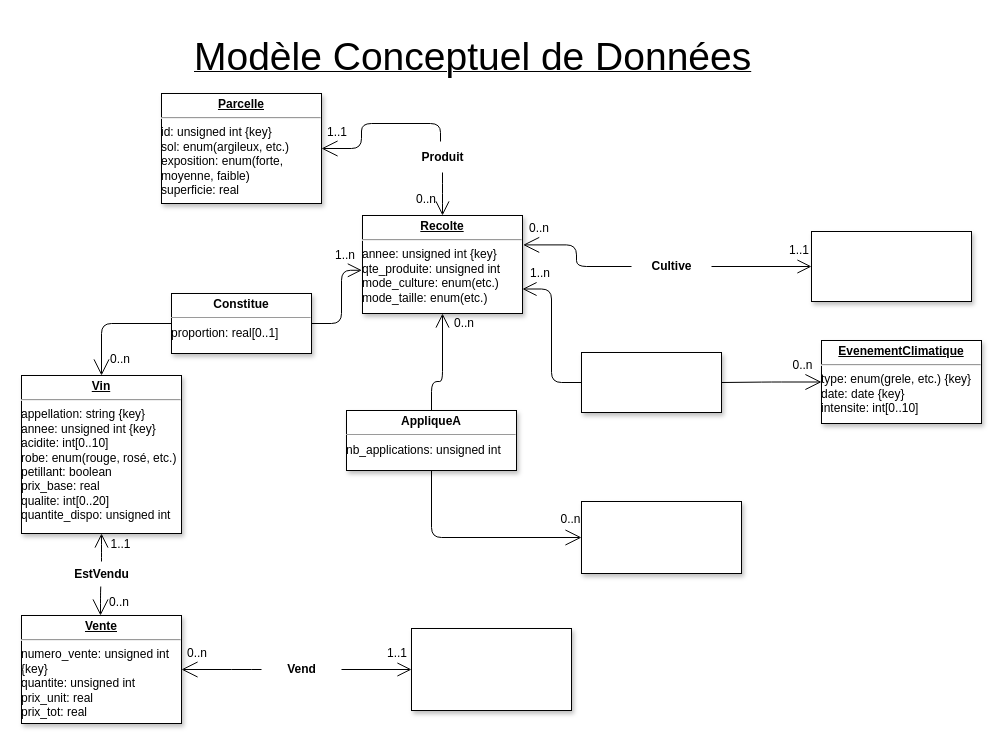
Image size: 1005x748. Some labels were removed from this diagram. Here are the shapes that lost their labels. From the top down, the centre of each, then its label:
At point (892, 267): "Cepage nom: string {key} description: text".
At point (652, 384): "Touche degats: int[0..10]".
At point (662, 538): "TraitementPhytosanitaire nom: string {key} description: text".
At point (492, 671): "Distributeur nom: string {key} marge: real type: enum(grossiste, etc.)".
